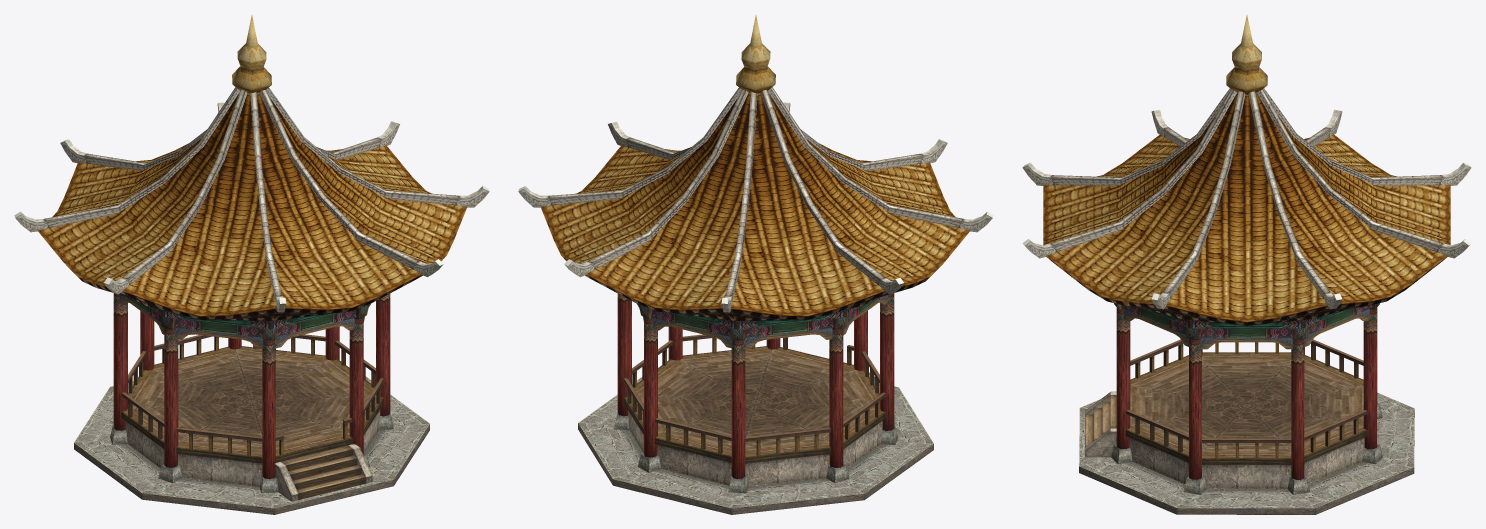
Rendered from otherworld_house_01.fbx.
3 renders of one model, left to right at view 1: azimuth 30°, elevation 25°; view 2: azimuth 150°, elevation 25°; view 3: azimuth 270°, elevation 25°, orthographic.
Visible parts, largest first — view 1: otherworld_house_01; view 2: otherworld_house_01; view 3: otherworld_house_01.
Part boxes in pixels (x1,y1,x2,y2): otherworld_house_01: (14, 15, 489, 514); otherworld_house_01: (518, 15, 993, 514); otherworld_house_01: (1022, 15, 1471, 514).
Size of the model in its own units: 14.15 by 14.95 by 14.15.
